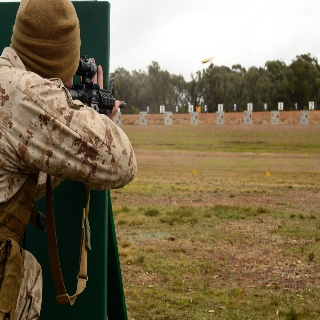rifle: (63, 56, 126, 118)
